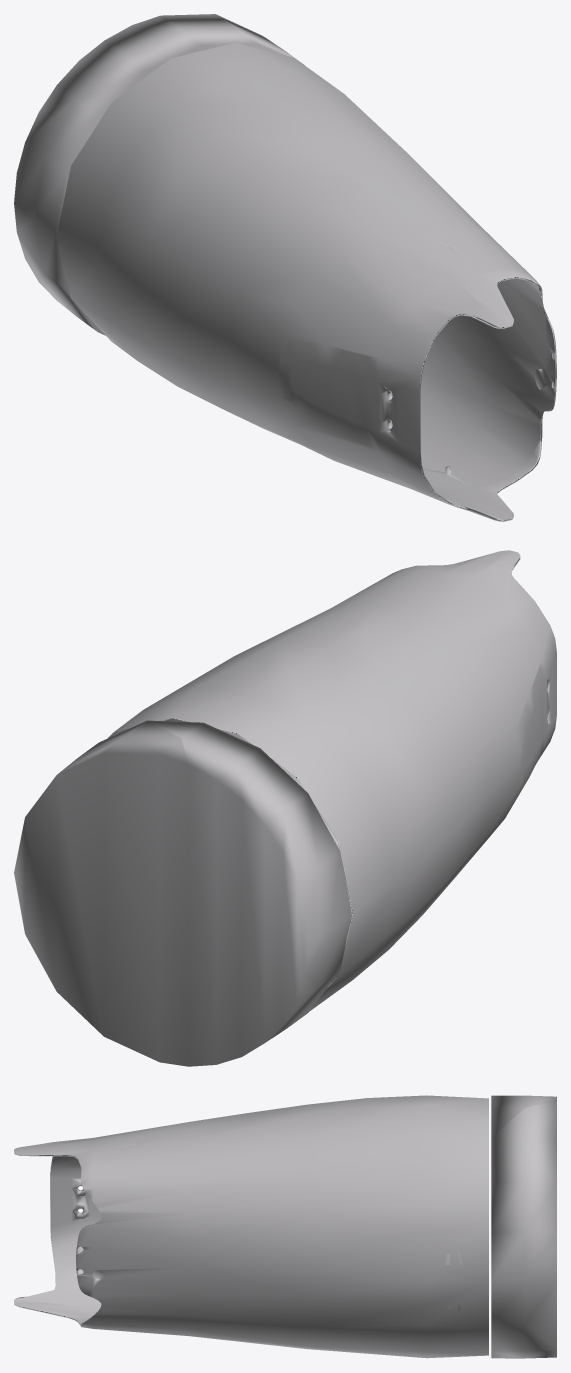
File: Right_Forearm.dae
3 views of the same model, one above another, from view 1: azimuth 30°, elevation 25°; view 2: azimuth 150°, elevation 25°; view 3: azimuth 270°, elevation 25° (orthographic). The views are drawn at different scales.
Visible parts, largest first — view 1: Mesh; view 2: Mesh; view 3: Mesh.
Boxes of the visible parts, x1,y1,x2,y2 form: Mesh: [14, 14, 556, 521]; Mesh: [14, 550, 556, 1066]; Mesh: [14, 1095, 556, 1358].
Bounding box in the file's own units: 0.127 × 0.127 × 0.2621.
1 material, 1 textured.
